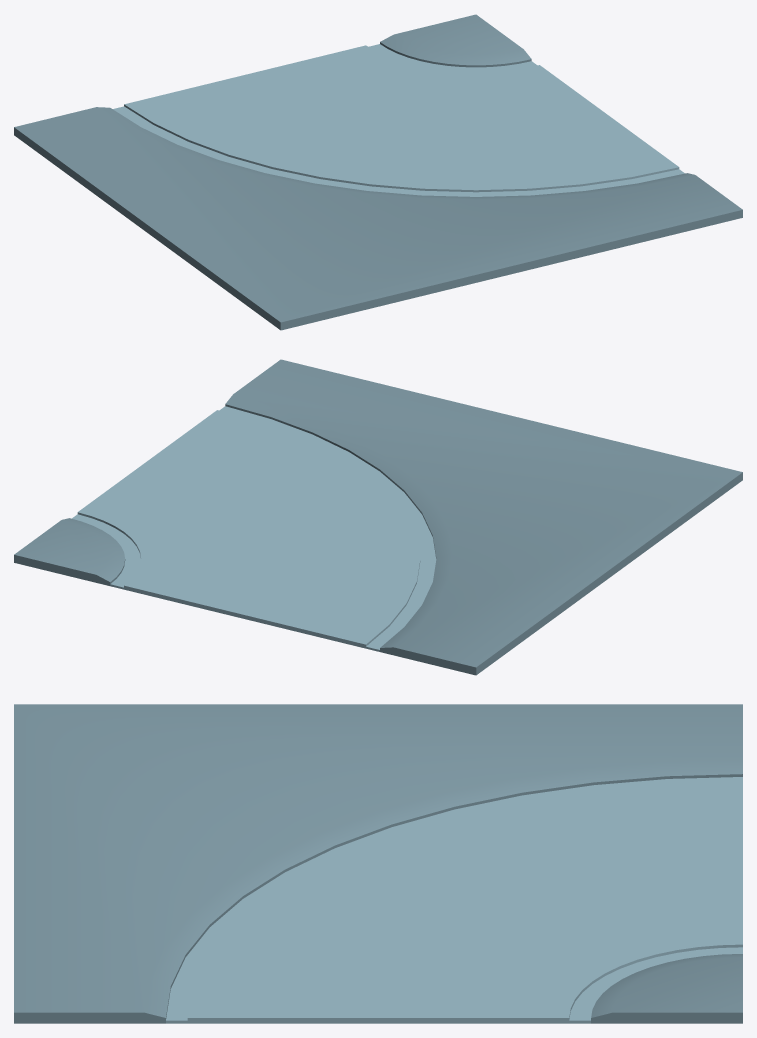
Rendered from roadBend.obj.
3 views of the same model, one above another, from view 1: azimuth 30°, elevation 25°; view 2: azimuth 150°, elevation 25°; view 3: azimuth 270°, elevation 25° (orthographic). The views are drawn at different scales.
Visible parts, largest first — view 1: roadBend; view 2: roadBend; view 3: roadBend.
Part boxes in pixels (<box>): roadBend: <box>14,14,742,330</box>; roadBend: <box>14,359,742,675</box>; roadBend: <box>14,704,742,1023</box>.
Bounding box in the file's own units: 3 × 0.05 × 3.
